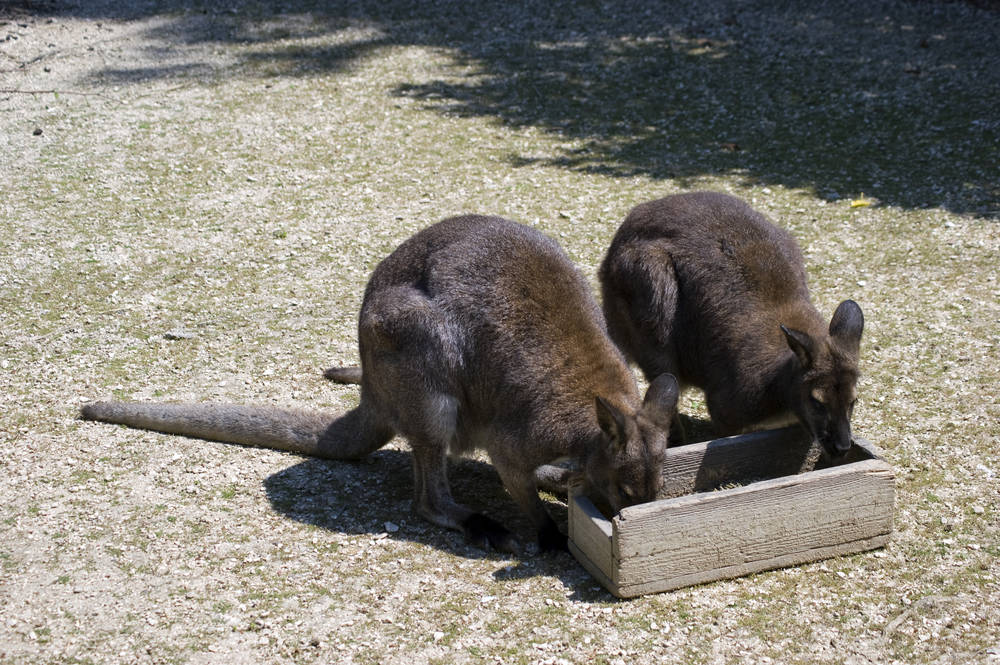kangaroo: (74, 205, 685, 607), (599, 181, 888, 460)
